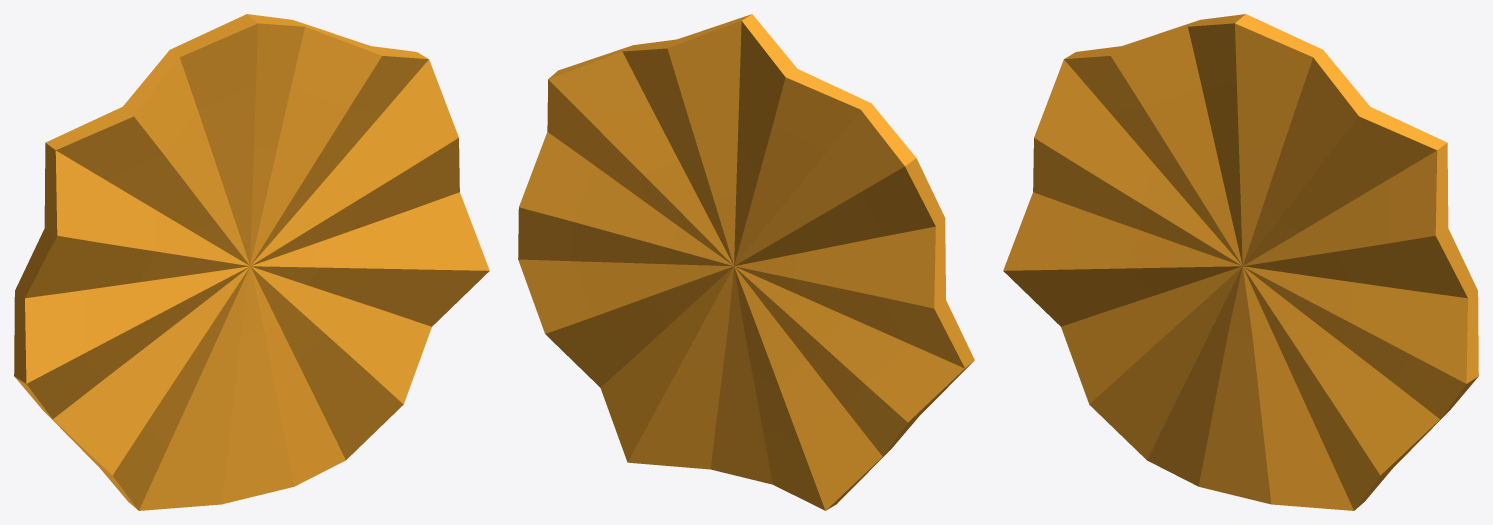
The model's file is SM_Decor_Circle_A_4july.fbx.
3 views of the same model, side by side, from view 1: azimuth 30°, elevation 25°; view 2: azimuth 150°, elevation 25°; view 3: azimuth 330°, elevation 25° (orthographic). The views are drawn at different scales.
Visible parts, largest first — view 1: decor-circle-a-4july; view 2: decor-circle-a-4july; view 3: decor-circle-a-4july.
Part boxes in pixels (x1,y1,x2,y2): decor-circle-a-4july: (14, 14, 489, 510); decor-circle-a-4july: (518, 14, 974, 510); decor-circle-a-4july: (1003, 14, 1478, 510).
Size of the model in its own units: 0.2395 by 0.2337 by 0.024.
